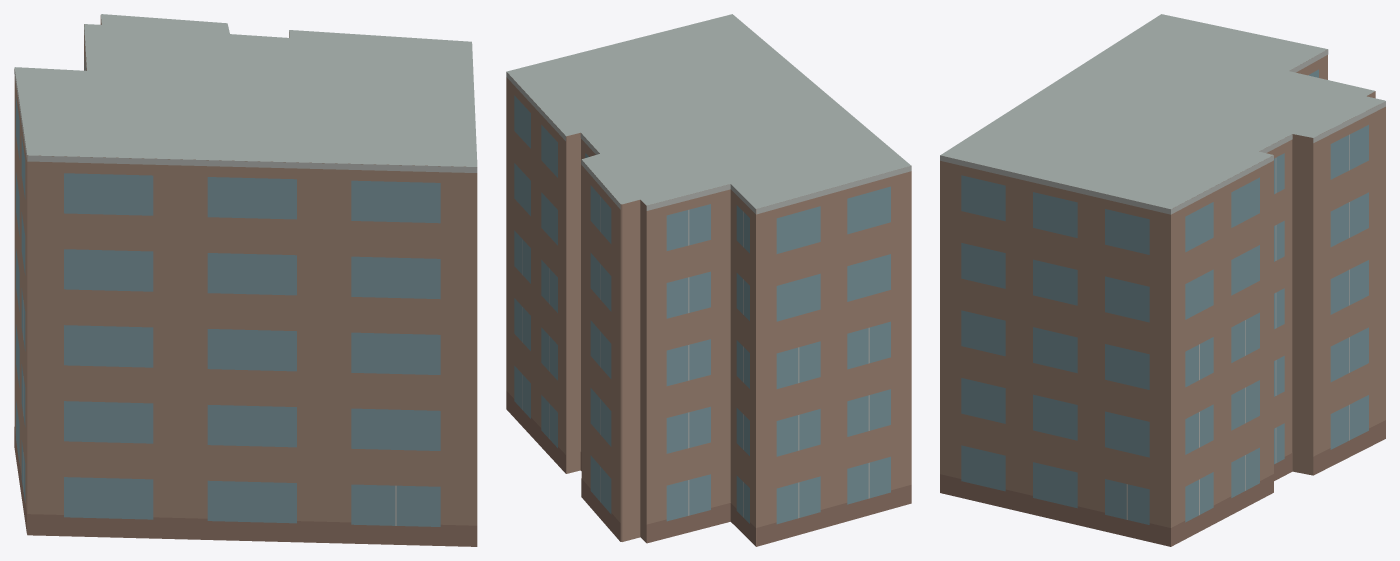
File: survey-upis-32816100.glb
3 views of the same model, side by side, from view 1: azimuth 30°, elevation 25°; view 2: azimuth 150°, elevation 25°; view 3: azimuth 270°, elevation 25° (orthographic). The views are drawn at different scales.
Parts seen in each view (by area): view 1: survey-upis-32816100.tmp; view 2: survey-upis-32816100.tmp; view 3: survey-upis-32816100.tmp.
Boxes of the visible parts, x1,y1,x2,y2 form: survey-upis-32816100.tmp: (14, 14, 477, 546); survey-upis-32816100.tmp: (506, 14, 911, 546); survey-upis-32816100.tmp: (940, 14, 1385, 546).
Bounding box in the file's own units: 18.93 × 15.25 × 18.26.
